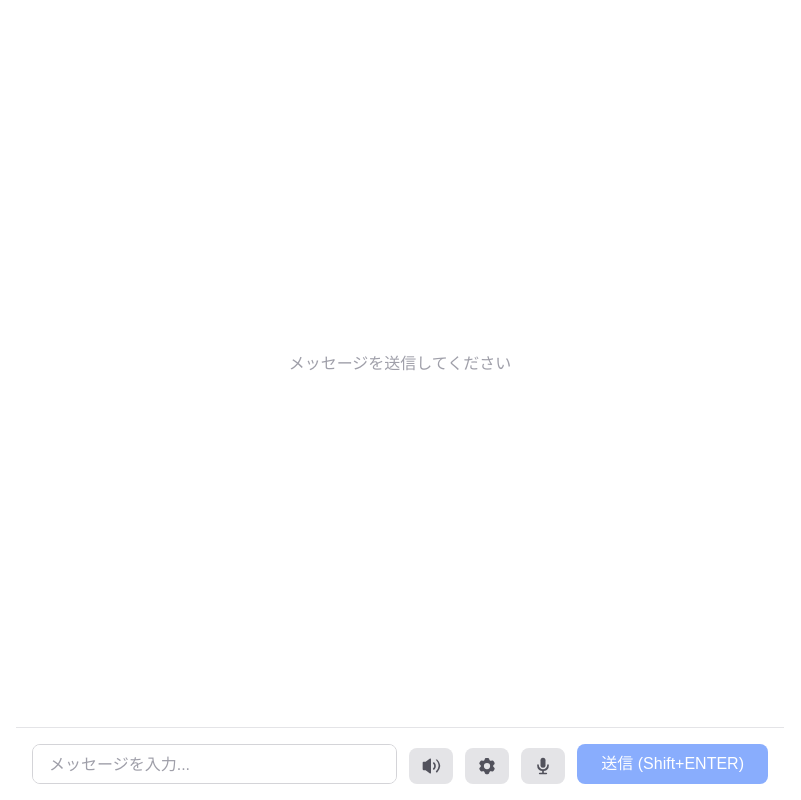
Scenario: ChatContainer › should show error from SSE error event
Type "Hello" into the text box with placeholder "メッセージを入力..." at (215, 764), box [32,744,397,784]
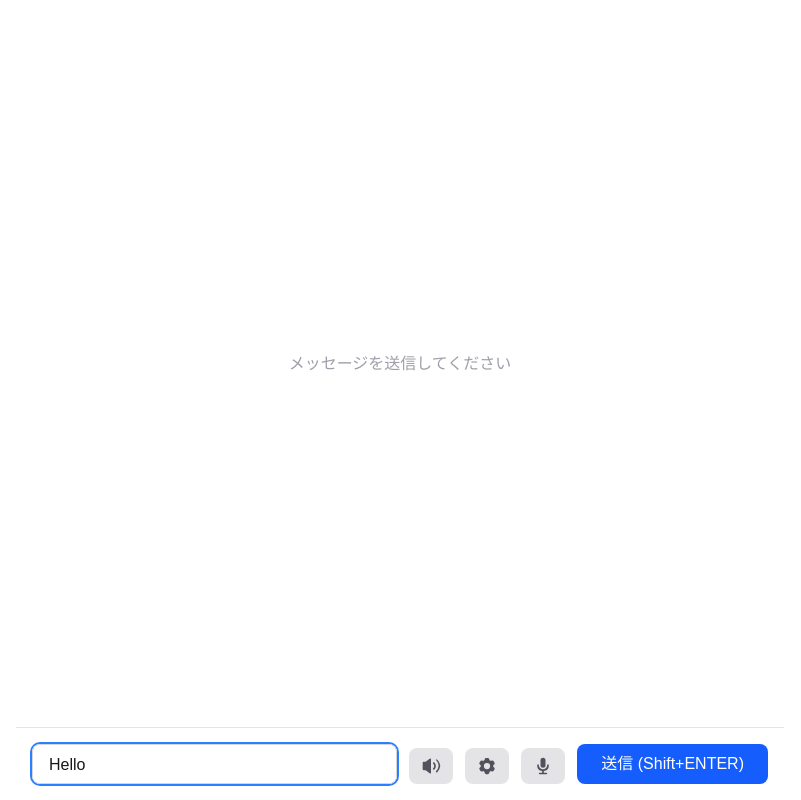
Click the button "送信 (Shift+ENTER)" at (673, 764), box [577,744,768,784]
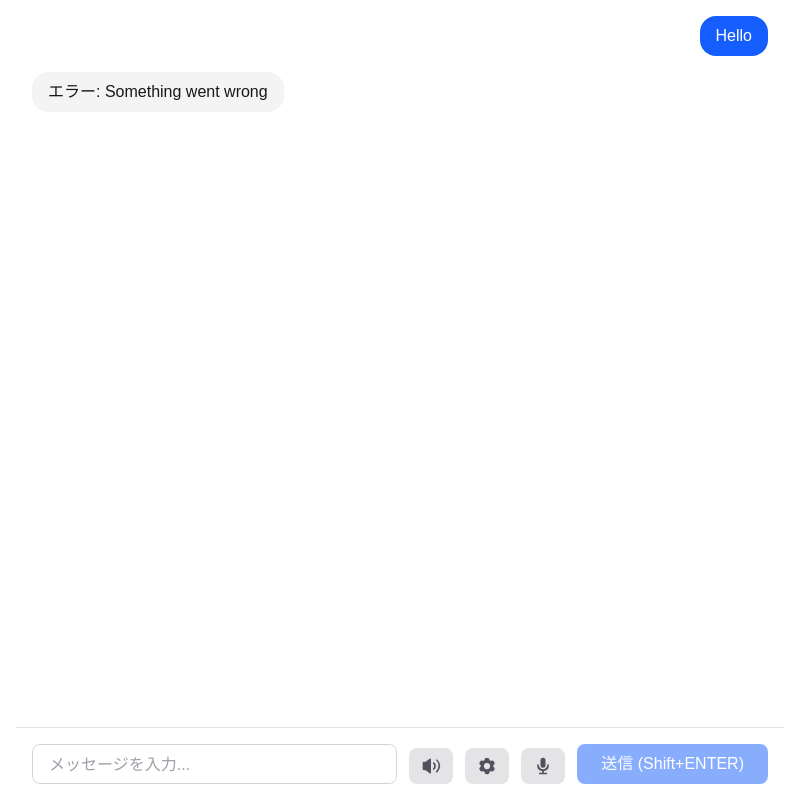
Result: the text "エラー: Something went wrong" is shown at [32,72,284,112]
